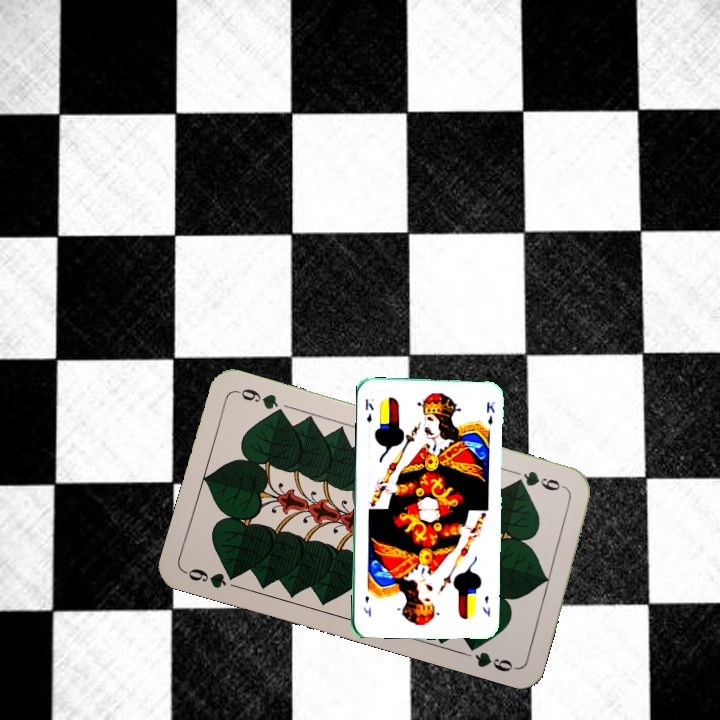EK: (361, 395, 376, 425), (479, 592, 492, 619)
G9: (181, 564, 242, 591), (510, 467, 570, 494)
